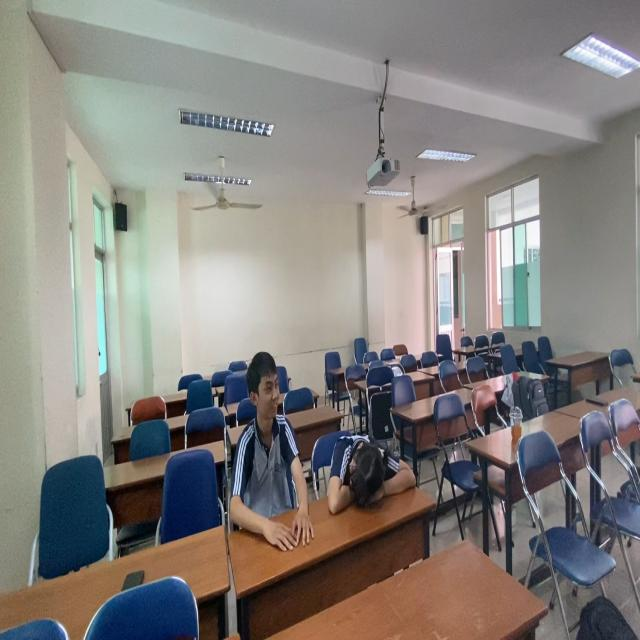sleep: (328, 427, 418, 519)
